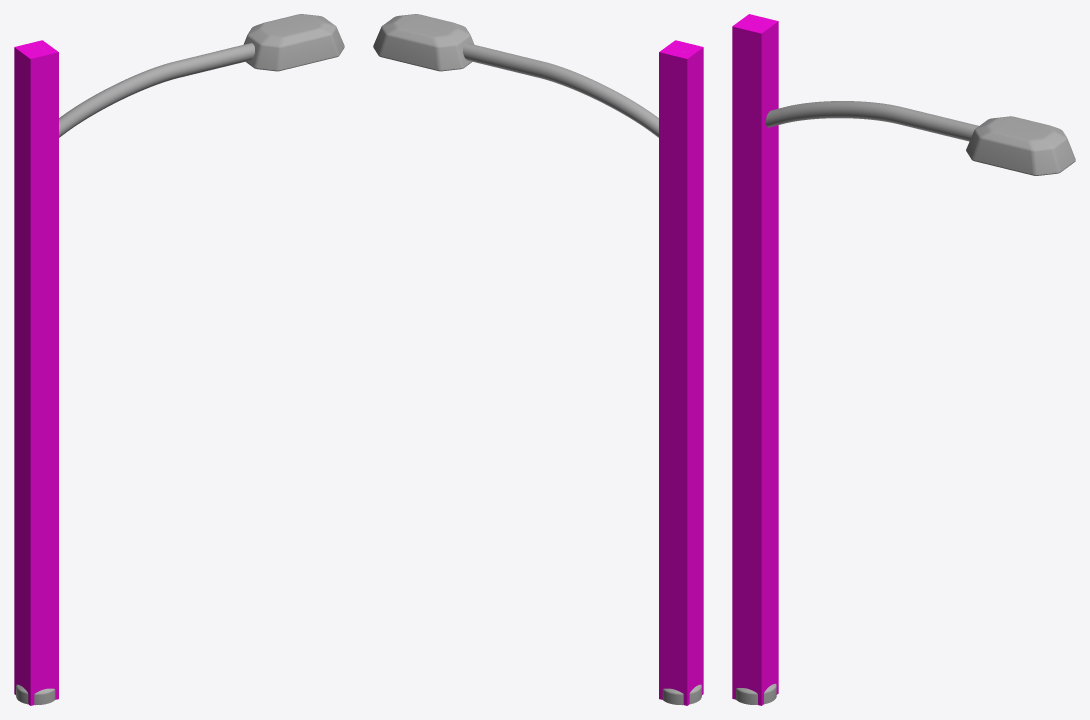
File: low_poly_street_light.glb
The picture shows the model from 3 angles, left to right: view 1: azimuth 30°, elevation 25°; view 2: azimuth 150°, elevation 25°; view 3: azimuth 330°, elevation 25°; orthographic projection. The views are drawn at different scales.
Parts seen in each view (by area): view 1: col_column_01, Cube, Cylinder.002, Cylinder; view 2: col_column_01, Cube, Cylinder.002, Cylinder; view 3: col_column_01, Cube, Cylinder.002.
Boxes of the visible parts, x1,y1,x2,y2 form: col_column_01: [14, 40, 58, 705]; Cube: [243, 14, 344, 71]; Cylinder.002: [59, 43, 254, 137]; Cylinder: [16, 47, 55, 705]; col_column_01: [659, 40, 703, 705]; Cube: [373, 14, 474, 71]; Cylinder.002: [463, 43, 658, 137]; Cylinder: [662, 51, 701, 705]; col_column_01: [732, 14, 778, 705]; Cube: [966, 116, 1075, 175]; Cylinder.002: [765, 101, 978, 141].
Size of the model in its own units: 3.25 by 6.31 by 0.5894.
